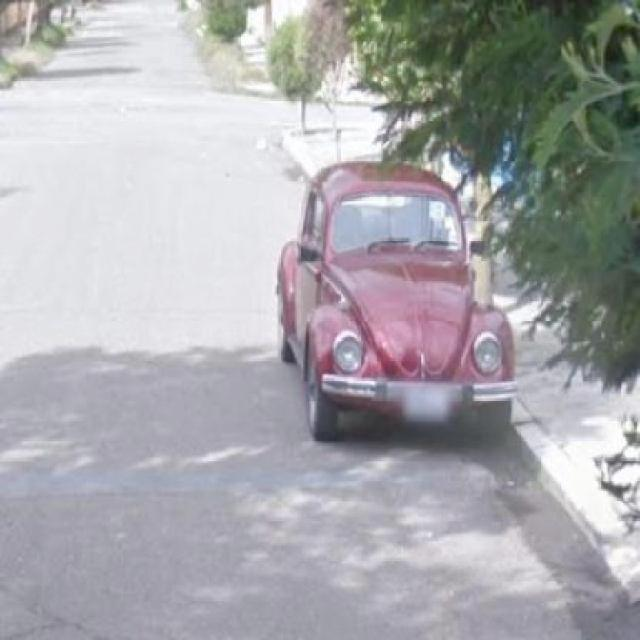car: (268, 165, 527, 448)
